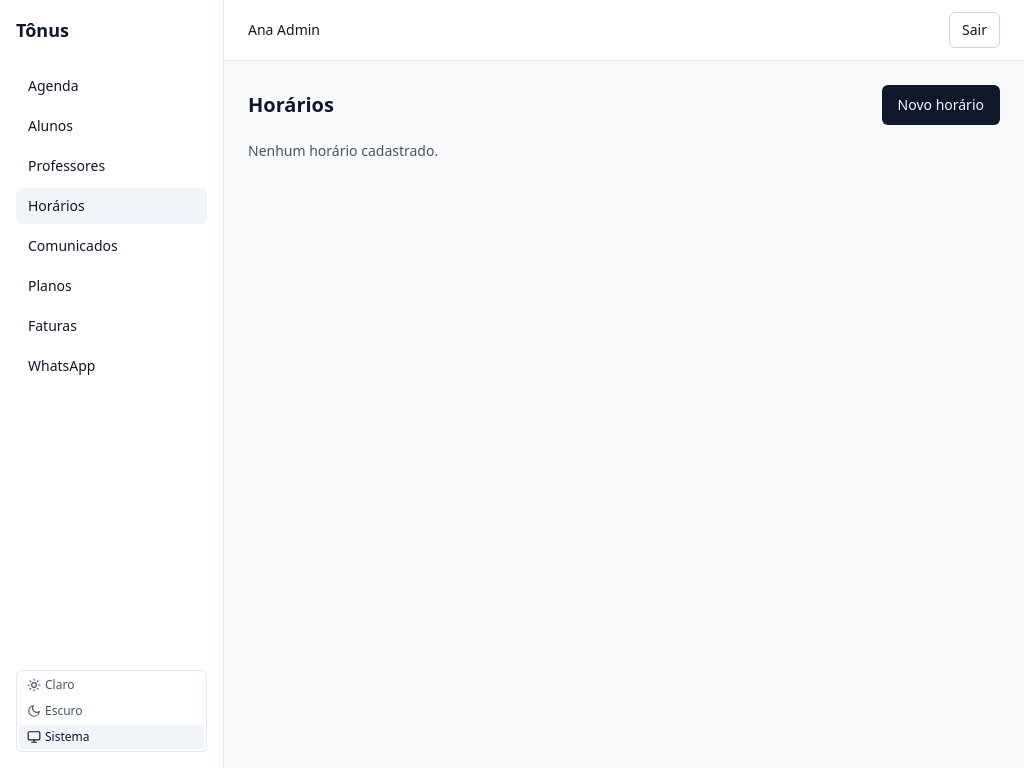
it: cadastro de horário padrão › cria o horário e a lista volta com ele
Click the button "Novo horário": x=941, y=105 [882,85,1000,125]
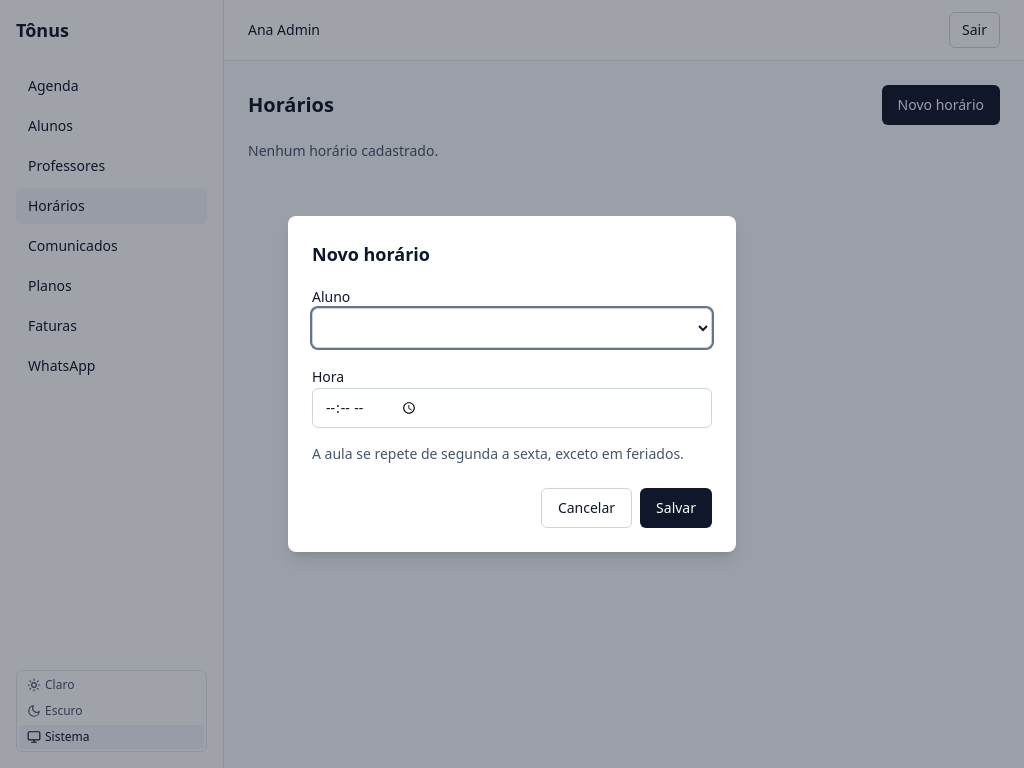
Select "Ana Alves" in the dropdown labelled "Aluno": x=512, y=328 [312,308,712,348]
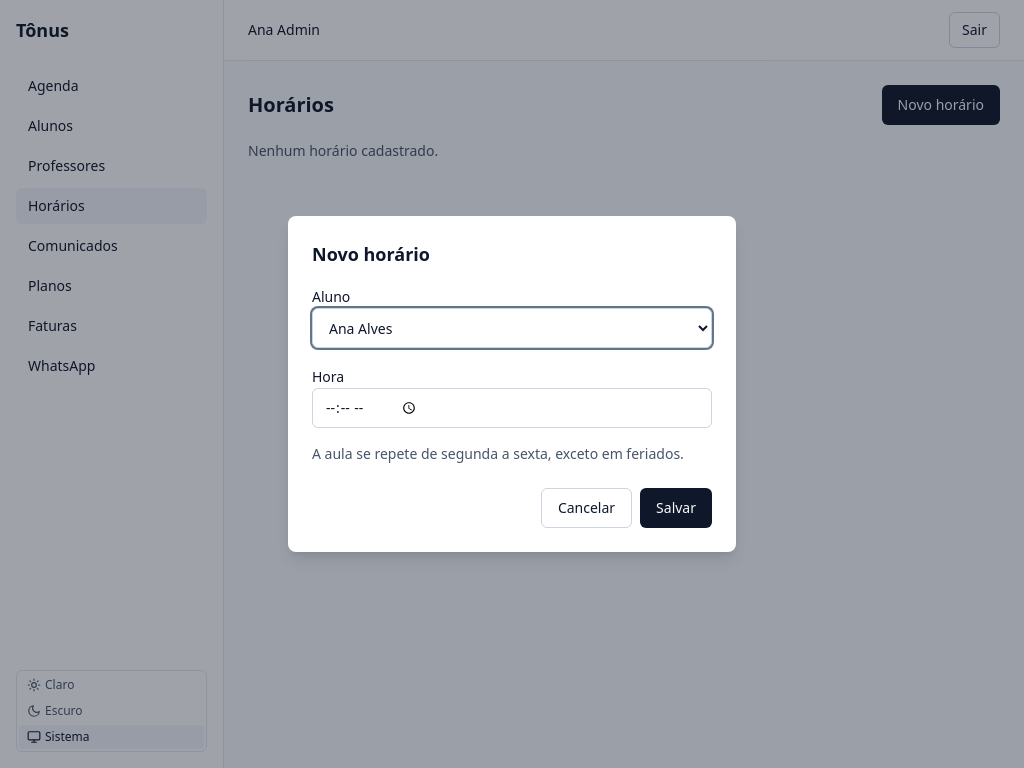
In the time field labelled "Hora": x=512, y=408 [312,388,712,428], type "07:00"
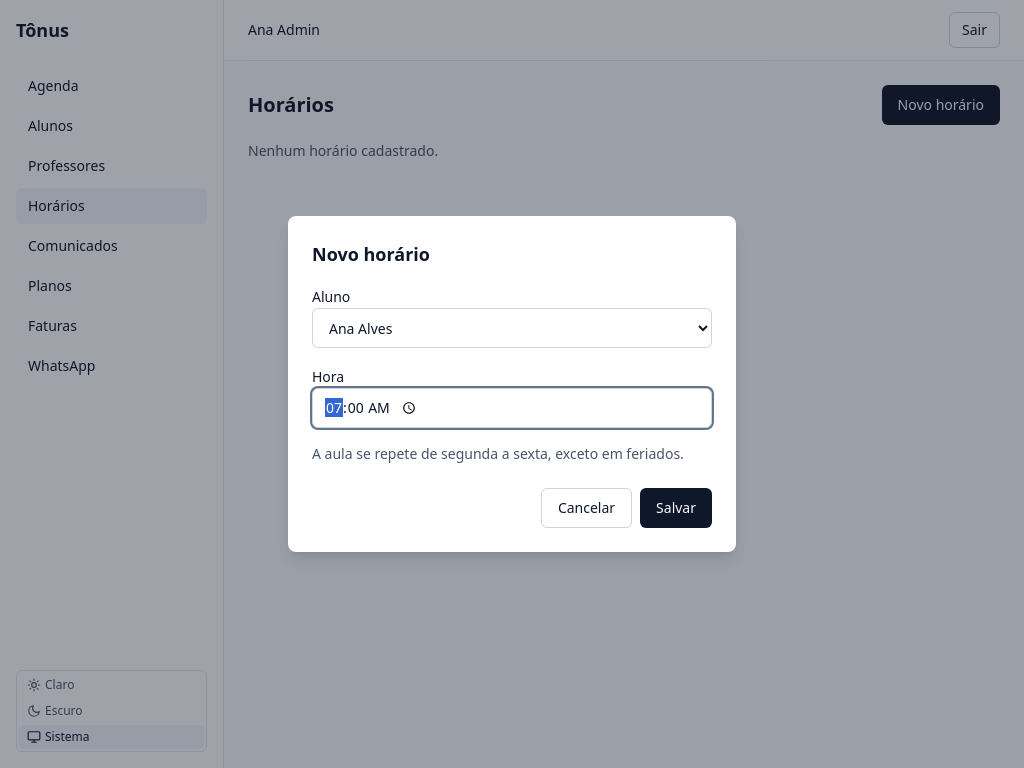
Click the button "Salvar": x=676, y=508 [640,488,712,528]
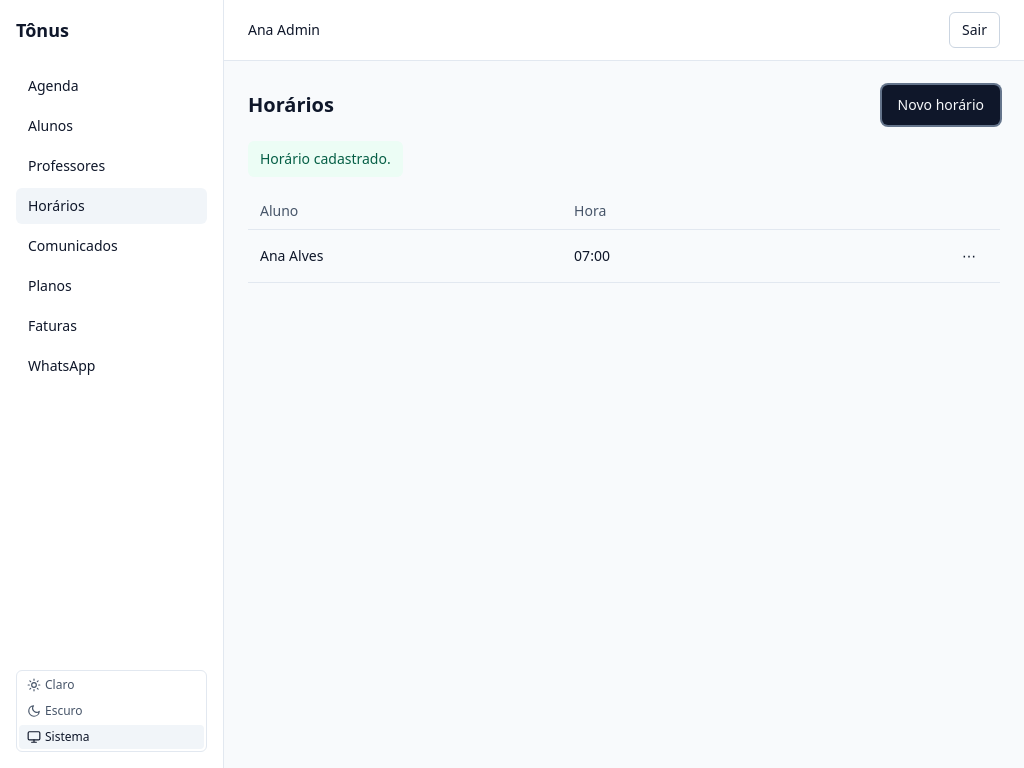
Now the row "Ana Alves 07:00 ⋯" is shown, box [248,230,1000,282]
